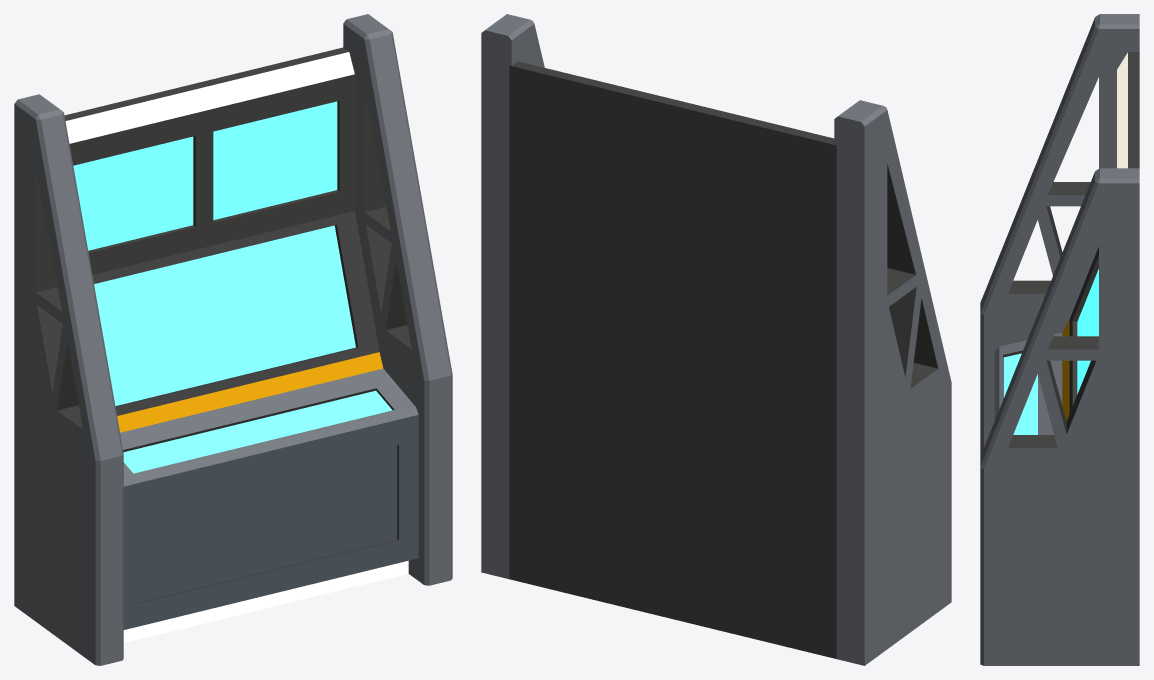
File: wall_bank_core.glb
The picture shows the model from 3 angles, left to right: view 1: azimuth 30°, elevation 25°; view 2: azimuth 150°, elevation 25°; view 3: azimuth 270°, elevation 25°; orthographic projection. The views are drawn at different scales.
Visible parts, largest first — view 1: wall_bank_core; view 2: wall_bank_core; view 3: wall_bank_core.
Part boxes in pixels (bbox=[...]): wall_bank_core: bbox=[14, 14, 452, 665]; wall_bank_core: bbox=[481, 14, 951, 665]; wall_bank_core: bbox=[980, 14, 1139, 665].
Size of the model in its own units: 1.64 by 2.22 by 0.66.
